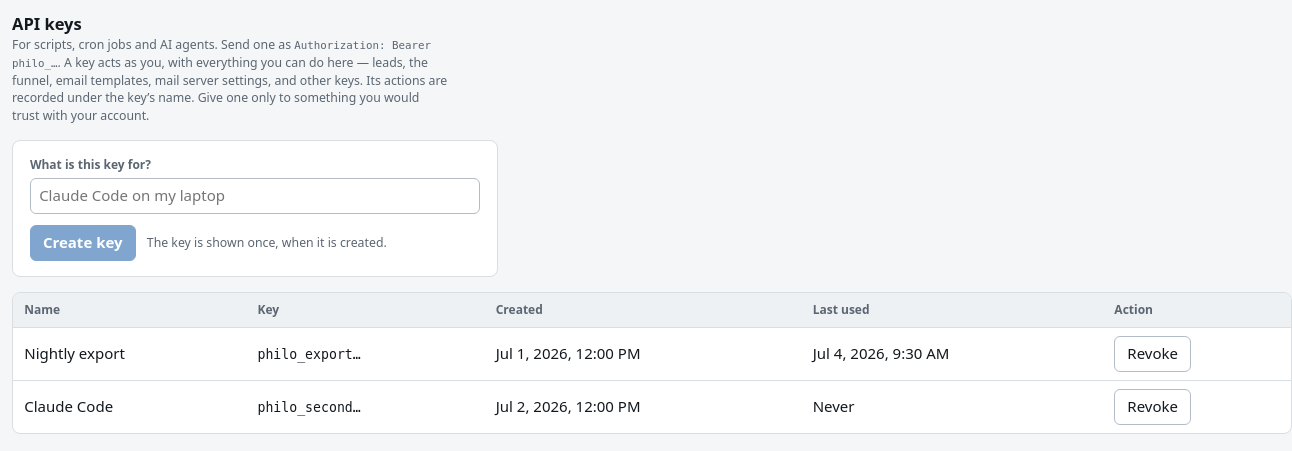
it: ApiKeys › takes two clicks to revoke
This screenshot has width=1292, height=451.
Click the button with aria-label "Revoke Nightly export".
click(1153, 354)  # box x1=1114 y1=336 x2=1191 y2=372
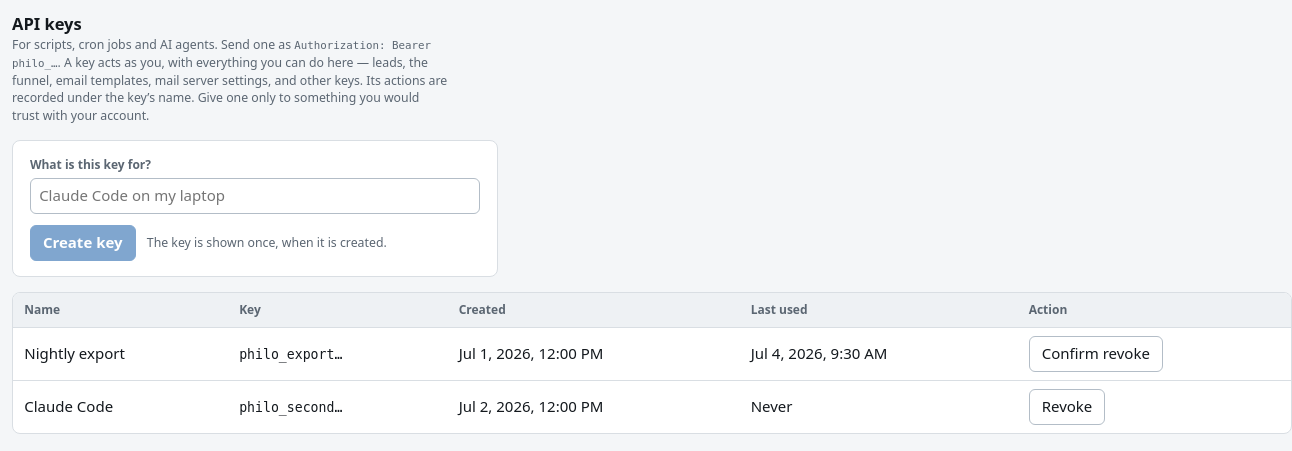
Click the button with aria-label "Confirm revoking Nightly export".
click(1096, 354)  # box x1=1029 y1=336 x2=1163 y2=372
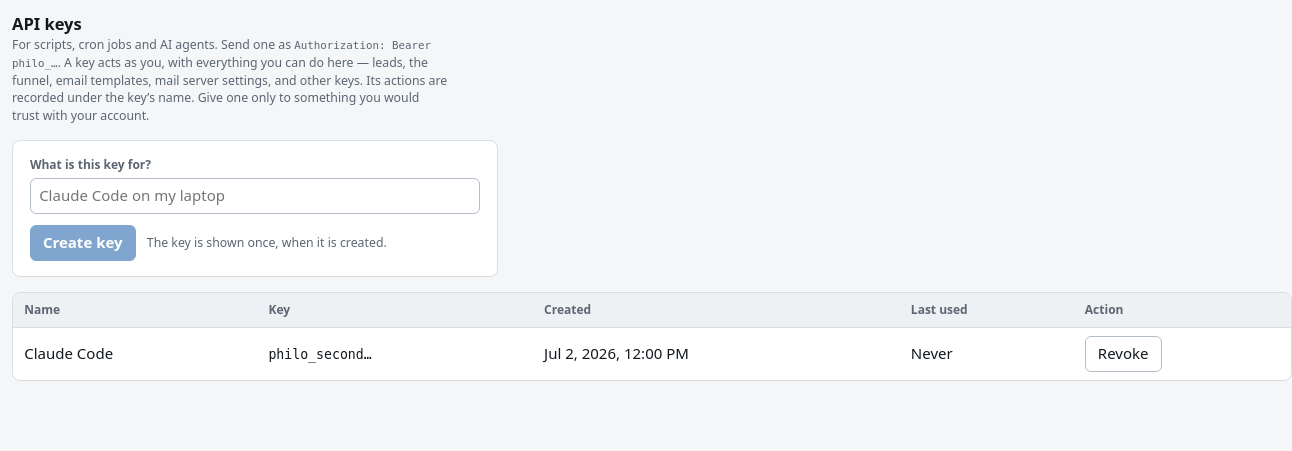
Expected: the text "Nightly export" is gone
